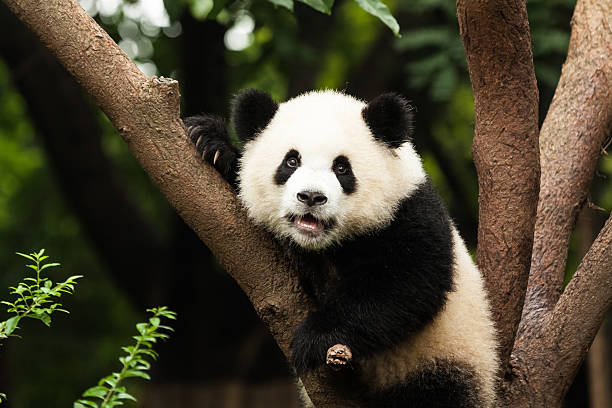panda: (222, 74, 434, 269)
